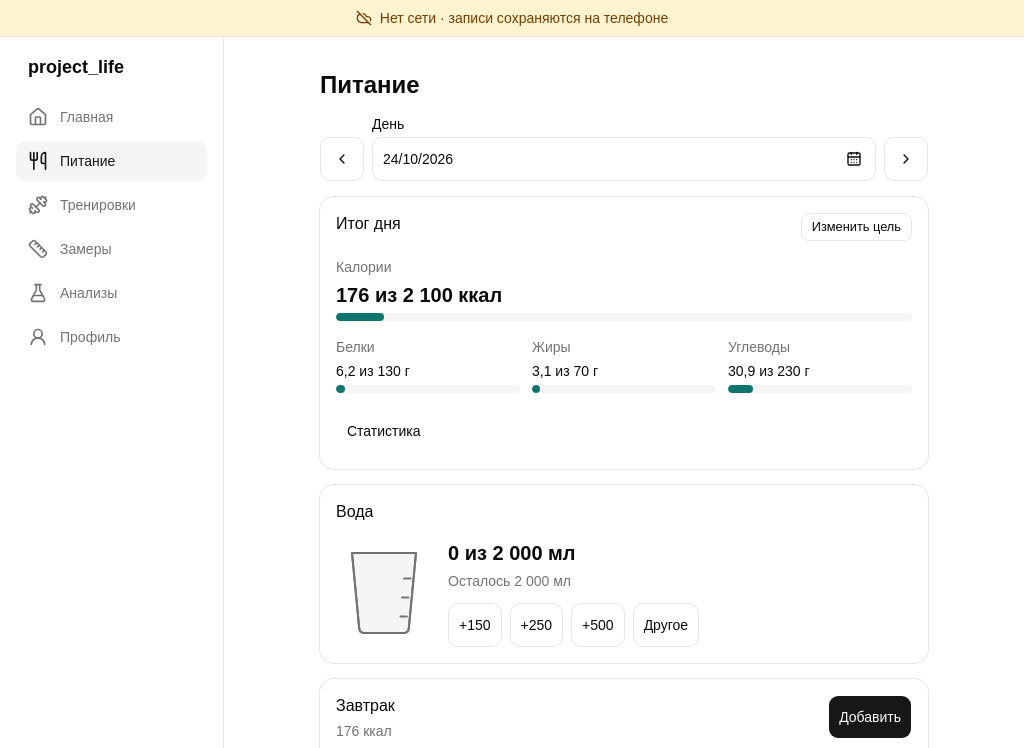
Test case: дневник без сети › порция воды встаёт в очередь и видна с отметкой
Click the button "+150": [475, 625] box [448, 603, 502, 647]
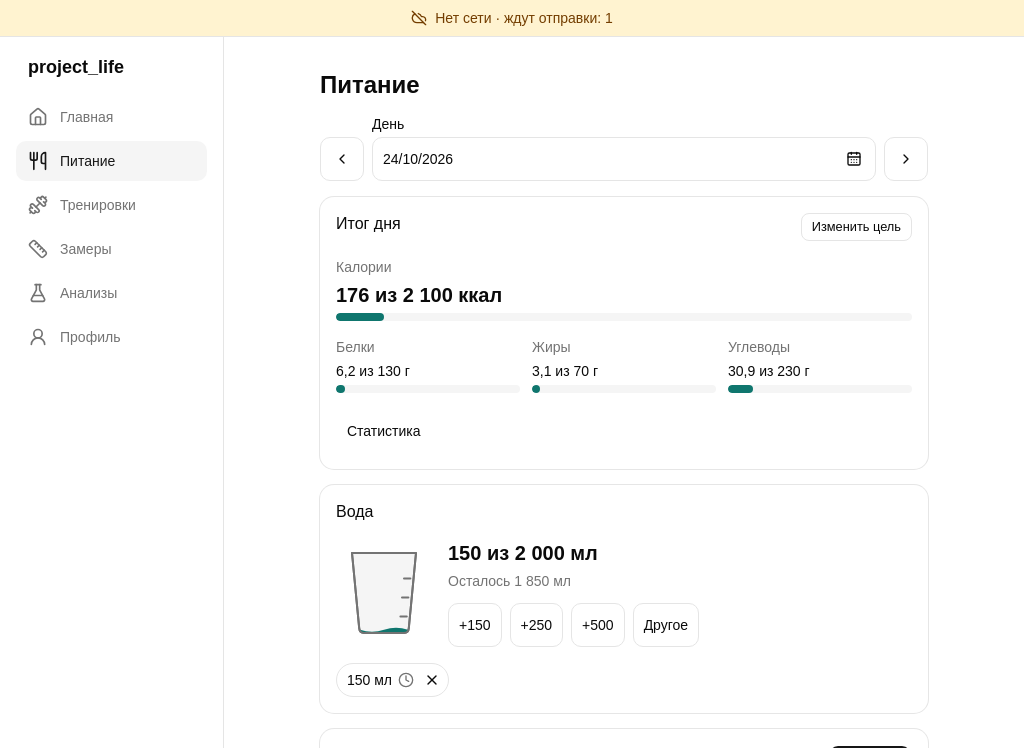
Expected: the picture named "Ещё не отправлено" is shown, [398, 672, 414, 688]
